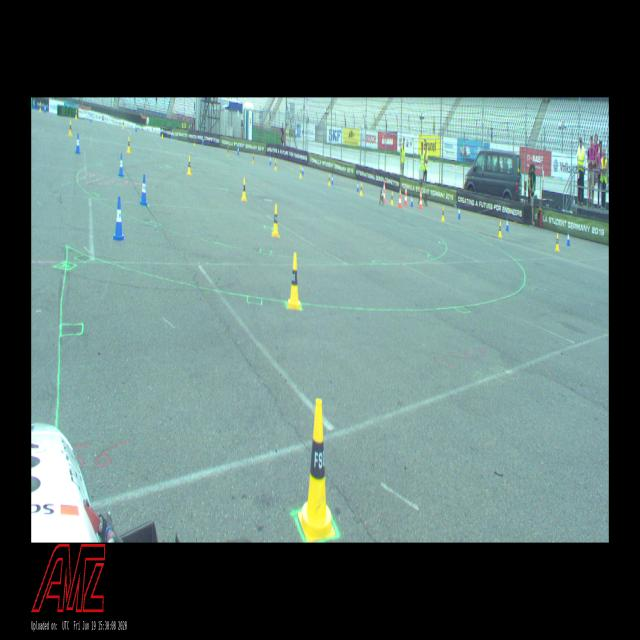blue_cone: (112, 197, 125, 241), (140, 175, 148, 205), (118, 153, 124, 177), (76, 133, 80, 154), (566, 231, 570, 246), (410, 194, 413, 207), (458, 205, 460, 219), (506, 217, 508, 231), (332, 174, 334, 185), (270, 155, 272, 165), (357, 181, 359, 191), (302, 165, 304, 175)
large_orange_cone: (398, 186, 402, 208), (404, 186, 408, 205), (419, 188, 422, 208), (384, 181, 386, 202)
yellow_cone: (298, 399, 335, 542), (287, 253, 301, 310), (272, 204, 279, 237), (241, 177, 247, 201), (555, 234, 560, 251), (187, 156, 191, 175), (126, 136, 130, 153), (498, 221, 502, 237), (390, 192, 394, 206), (69, 120, 72, 136), (299, 166, 302, 178), (328, 174, 331, 186), (442, 207, 444, 221), (360, 183, 362, 196), (275, 160, 277, 170), (75, 109, 77, 119), (39, 102, 41, 112)
